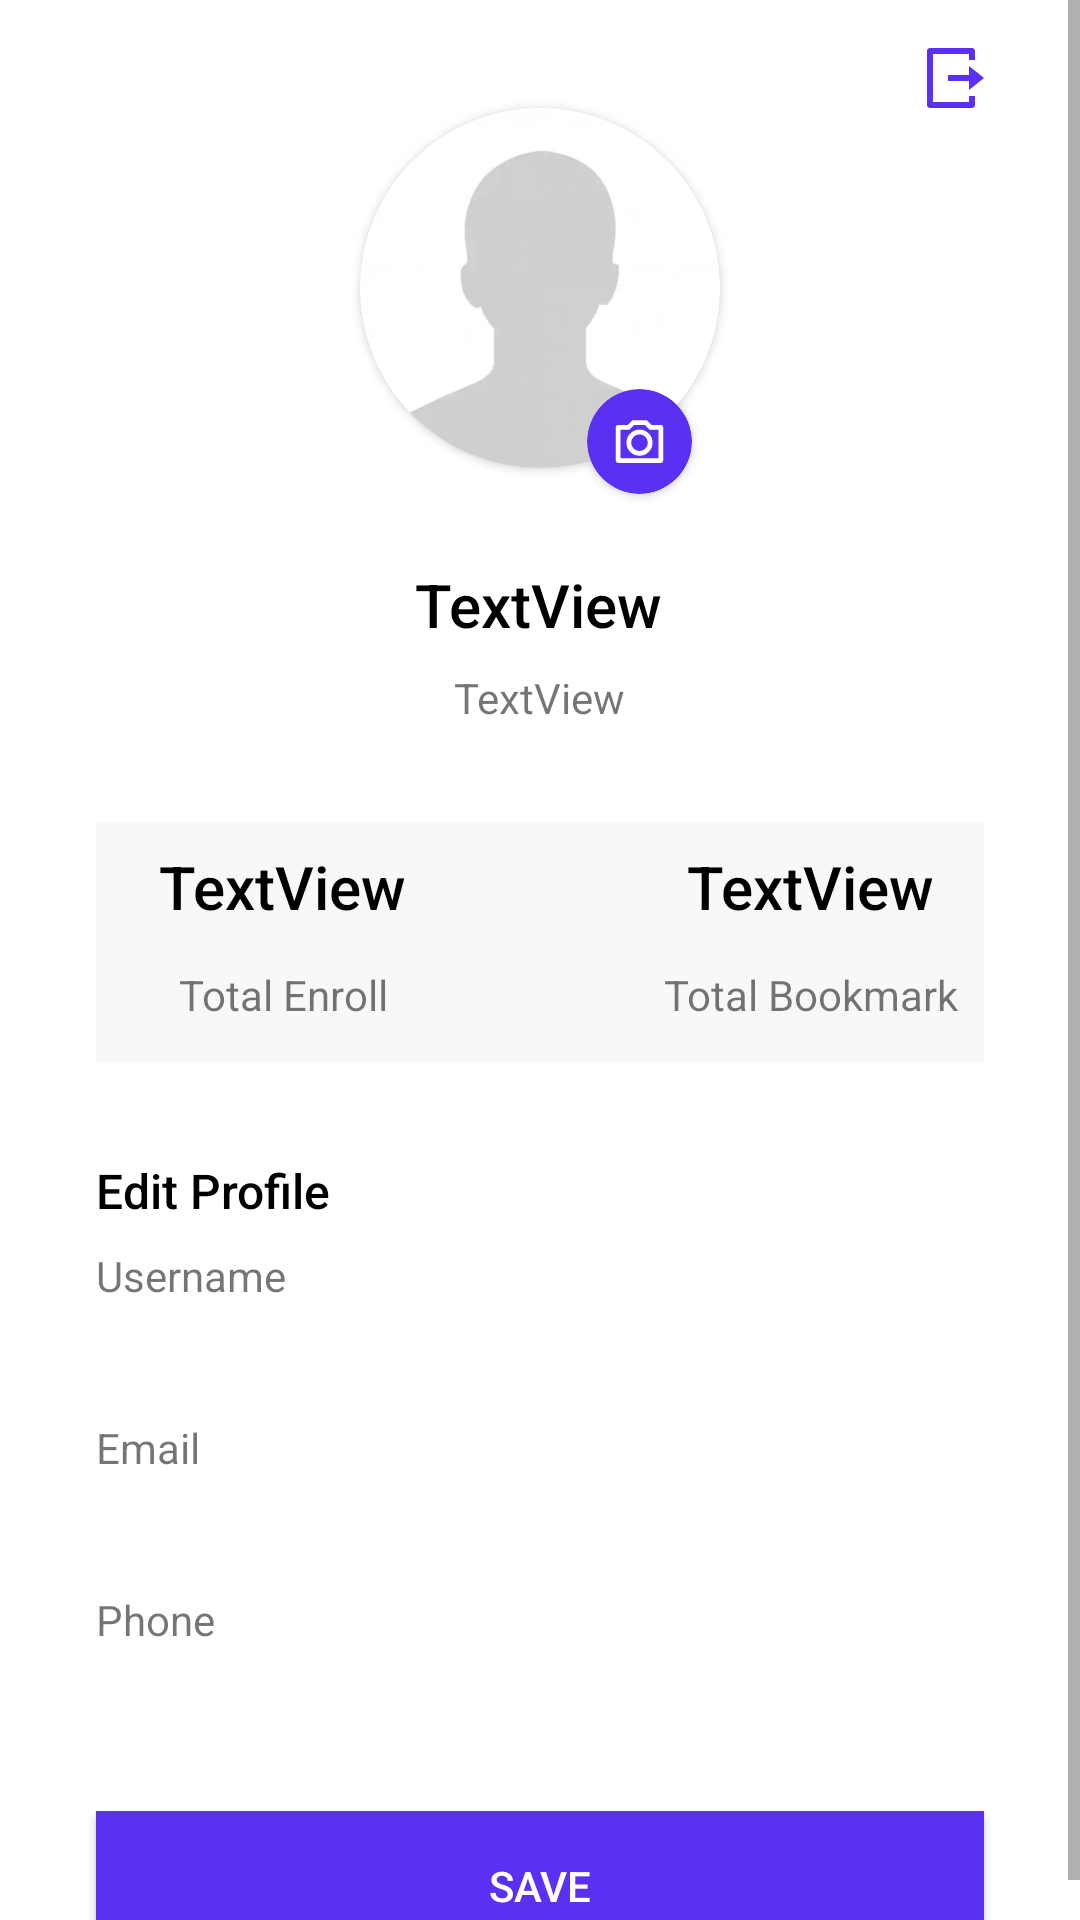

Icons on this 1080px×1920px Android screen, each with its box as (x1, y1, x2, y2):
camera line: (587, 389, 692, 494)
